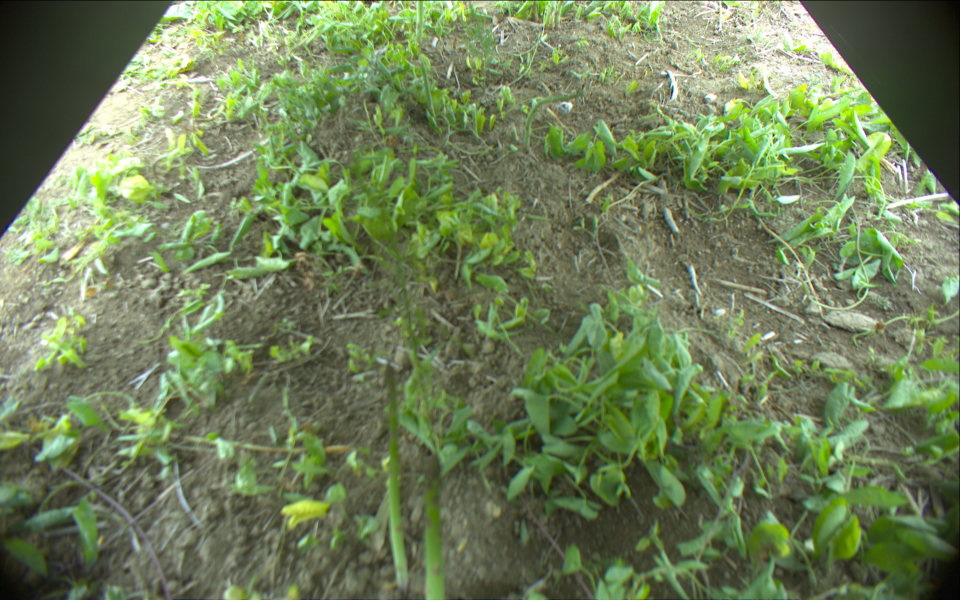aspa: (385, 363, 412, 593), (522, 91, 585, 147), (423, 453, 445, 600), (418, 61, 436, 119), (416, 1, 422, 45)
